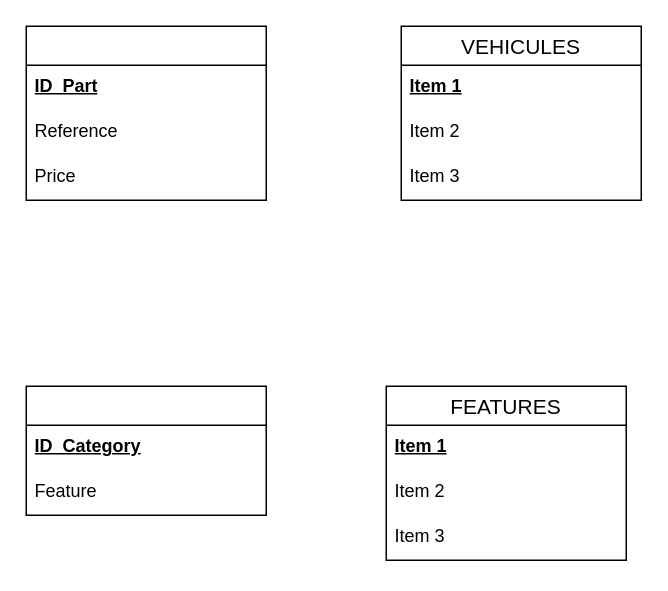
This 668x591 diagram has some shape labels left out. The shapes that lost their labels are listed below. From the top down, each one's box as (x1, y1, x2, y2) in pixels, then its label:
(25, 25, 266, 200): PARTS
(25, 385, 266, 515): CATEGORIES
